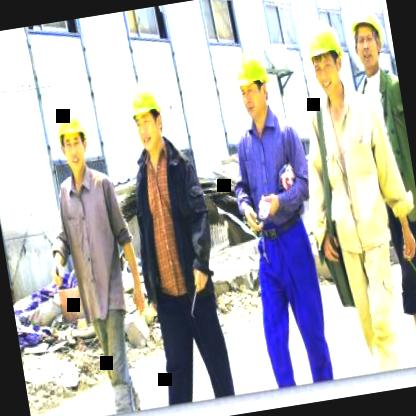helmet: (296, 12, 352, 98), (122, 72, 173, 159), (228, 43, 277, 128), (344, 1, 390, 80), (51, 104, 96, 176)
